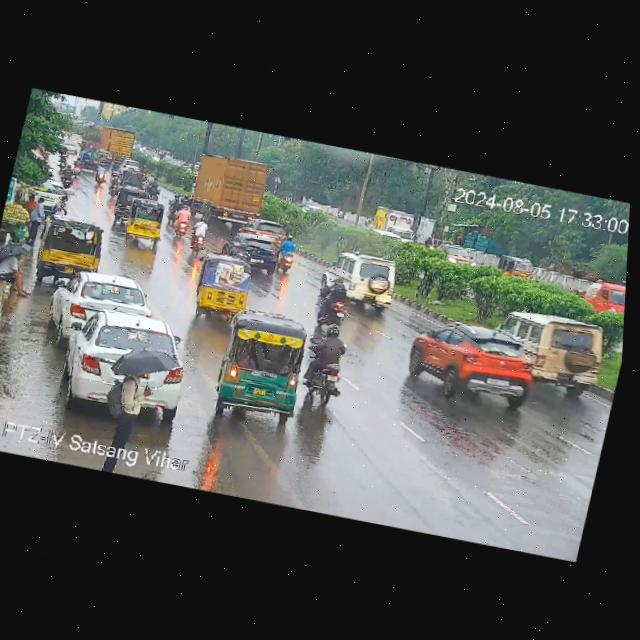car: (63, 310, 195, 422), (396, 318, 540, 407), (214, 313, 314, 419), (483, 308, 612, 389), (52, 271, 153, 353), (97, 367, 144, 474), (324, 250, 398, 314), (41, 217, 110, 270), (193, 256, 252, 313), (574, 277, 626, 323), (226, 237, 285, 277), (123, 202, 165, 249), (490, 249, 537, 283), (239, 216, 288, 241), (437, 240, 478, 266)
motorcycle: (301, 329, 352, 403), (111, 187, 144, 220), (279, 234, 303, 273), (189, 215, 215, 251), (171, 206, 192, 234)
person: (0, 246, 31, 297), (21, 197, 48, 244), (55, 194, 69, 216)
truck: (191, 152, 273, 224), (94, 126, 134, 161)
